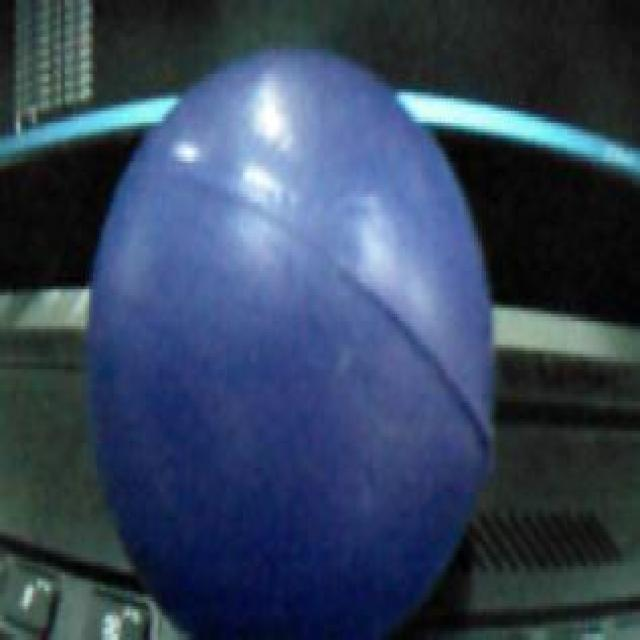BallPurple: (86, 45, 492, 640)
